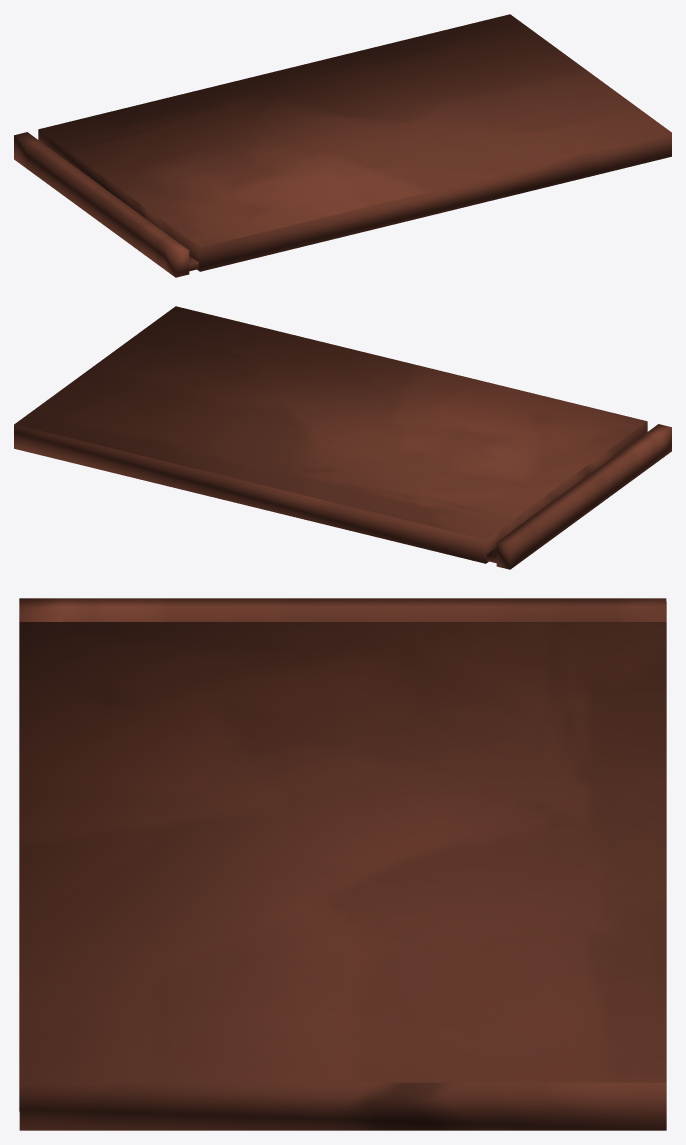
The model's file is Bancada.fbx.
3 views of the same model, one above another, from view 1: azimuth 30°, elevation 25°; view 2: azimuth 150°, elevation 25°; view 3: azimuth 270°, elevation 25° (orthographic). The views are drawn at different scales.
Visible parts, largest first — view 1: Bancada; view 2: Bancada; view 3: Bancada.
Part boxes in pixels (<box>): Bancada: <box>14,14,671,277</box>; Bancada: <box>14,306,671,569</box>; Bancada: <box>19,598,666,1130</box>.
Size of the model in its own units: 142 by 80.17 by 6.6.
